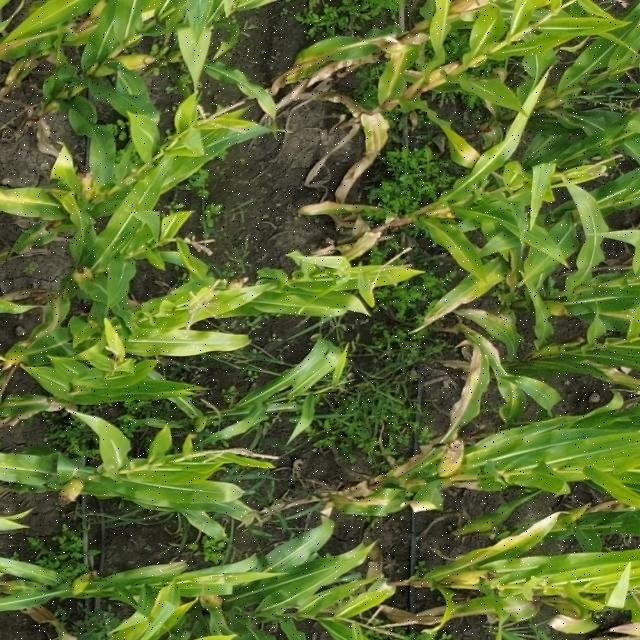northern-leaf-blight: (434, 334, 501, 436), (462, 511, 565, 569), (335, 113, 390, 200), (358, 32, 428, 99)
